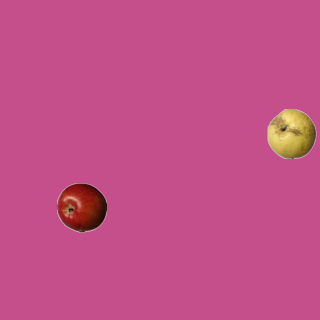Apple Braeburn: (56, 182, 106, 232)
Apple Golden 1: (266, 108, 316, 158)
